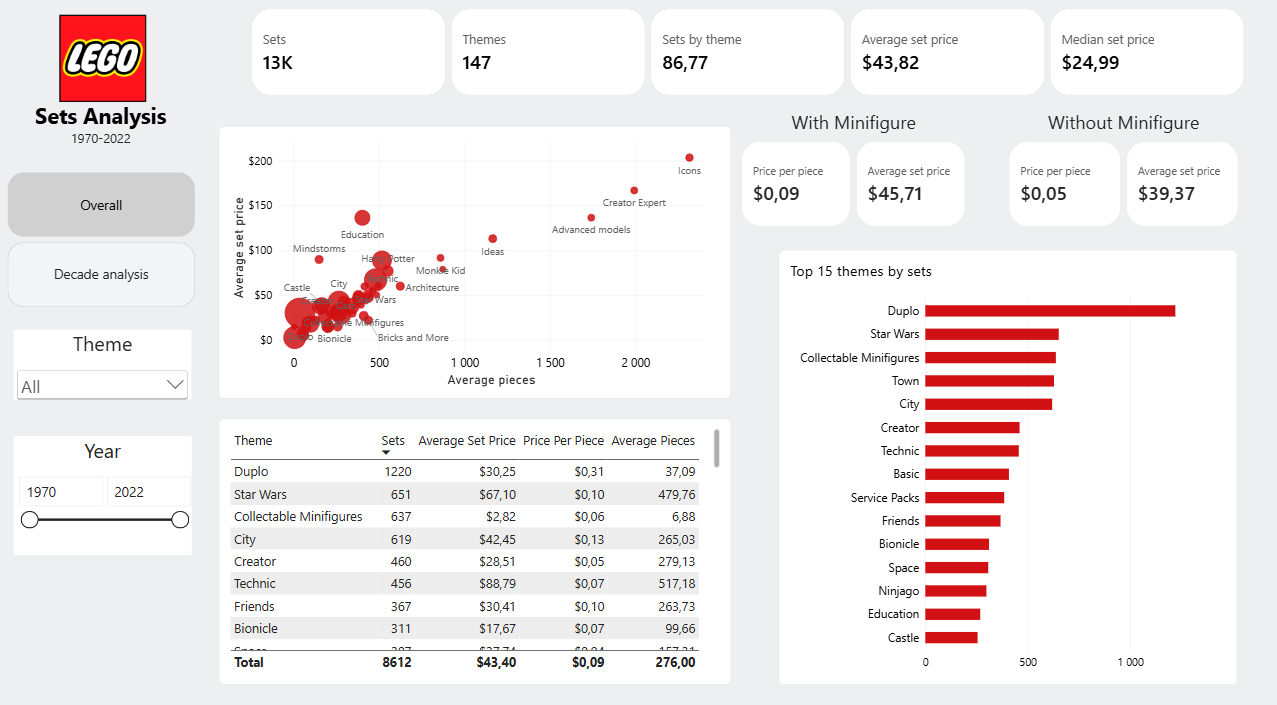

What the dashboard file says about the page in this screenshot:
{"tool":"powerbi","page":{"name":"Overall","canvas":[1920,1080],"ordinal":0},"visuals":[{"type":"barChart","title":"Top 15 themes by sets","fields":{"Category":["Sets.theme"],"Y":["CountNonNull(Sets.set_id)"]},"box":[1168.7,381,675.5,640.5],"z":0},{"type":"cardVisual","fields":{"Data":["Lego Measures.Sets","Lego Measures.Themes","Lego Measures.Sets by theme","Lego Measures.Average sets price","Lego Measures.Median set price"]},"box":[392,25.8,1465,128.8],"z":1000},{"type":"tableEx","fields":{"Values":["Sets.theme","Lego Measures.Sets","Lego Measures.Average set price","Lego Measures.Price per piece","Lego Measures.Average pieces"]},"box":[344.2,629.5,754.6,392],"z":2000},{"type":"scatterChart","fields":{"Category":["Sets.theme"],"Size":["Lego Measures.Sets"],"X":["Lego Measures.Average pieces"],"Y":["Lego Measures.Average set price"]},"box":[344.2,198.8,754.6,401.2],"z":3000},{"type":"cardVisual","fields":{"Data":["Lego Measures.Price per piece","Lego Measures.Average set price"]},"box":[1112.8,221.6,331.3,127],"z":4000},{"type":"cardVisual","fields":{"Data":["Lego Measures.Price per piece","Lego Measures.Average set price"]},"box":[1506.6,221.6,338.7,127],"z":5000},{"type":"slicer","title":"Year","fields":{"Values":["Sets.year"]},"box":[42.3,655.2,261.4,174.8],"z":6000},{"type":"textbox","box":[49.7,152.8,241.1,90.2],"z":7000},{"type":"slicer","title":"Theme","fields":{"Values":["Sets.theme"]},"box":[42.3,498.8,261.4,103.1],"z":8000},{"type":"textbox","box":[1147.7,175.6,261.4,51.5],"z":9000},{"type":"textbox","box":[1545.3,175.6,261.4,42.3],"z":10000},{"type":"image","box":[49.7,25.8,246.6,149.1],"z":11000},{"type":"pageNavigator","box":[33.1,266.9,276.1,198.8],"z":12000}]}

Visuals, with their boxes in screenshot pixels (x1, y1, x2, y2), scaled from the page's 1920x1080 canvas onto the 1277x705 screenshot:
"Top 15 themes by sets" barChart: <bbox>777, 249, 1227, 667</bbox>
cardVisual - Lego Measures.Sets x Lego Measures.Themes: <bbox>261, 17, 1235, 101</bbox>
tableEx - Sets.theme x Lego Measures.Sets: <bbox>229, 411, 731, 667</bbox>
scatterChart - Sets.theme x Lego Measures.Sets: <bbox>229, 130, 731, 392</bbox>
cardVisual - Lego Measures.Price per piece x Lego Measures.Average set price: <bbox>740, 145, 960, 228</bbox>
cardVisual - Lego Measures.Price per piece x Lego Measures.Average set price: <bbox>1002, 145, 1227, 228</bbox>
"Year" slicer: <bbox>28, 428, 202, 542</bbox>
textbox: <bbox>33, 100, 193, 159</bbox>
"Theme" slicer: <bbox>28, 326, 202, 393</bbox>
textbox: <bbox>763, 115, 937, 148</bbox>
textbox: <bbox>1028, 115, 1202, 142</bbox>
image: <bbox>33, 17, 197, 114</bbox>
pageNavigator: <bbox>22, 174, 206, 304</bbox>
